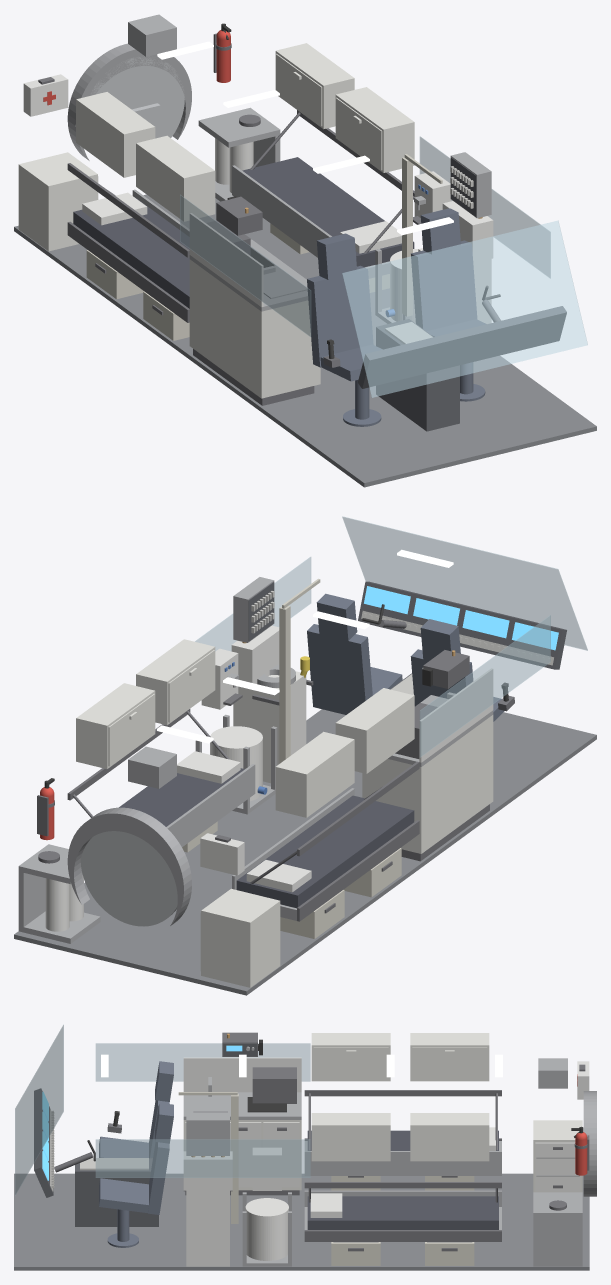
The model's file is rover03_pressurised_rover_steer_left_cutaway.glb.
3 renders of one model, top to bottom at view 1: azimuth 30°, elevation 25°; view 2: azimuth 150°, elevation 25°; view 3: azimuth 270°, elevation 25°, orthographic. The views are drawn at different scales.
Visible parts, largest first — view 1: window_glass_inner, deck_floor, stowage_lockers, eq37_1_cabinet, seat_2, seat_1, dash_panel, eq21_1_body, eq43_1_mattress, eq43_2_mattress, centre_console, hatch_door_1 (+29 smaller); view 2: deck_floor, window_glass_inner, stowage_lockers, eq37_1_cabinet, eq43_2_mattress, hatch_door_1, eq21_1_body, seat_1, hatch_tunnel_1, dash_panel, eq08_1_frame, eq22_1_body (+29 smaller); view 3: deck_floor, window_glass_inner, stowage_lockers, eq43_1_mattress, seat_1, eq43_1_hinge_and_strap_rails, eq08_1_frame, eq22_1_body, eq37_1_splashback, eq37_1_doors, centre_console, eq11_1_tank (+34 smaller).
Boxes of the visible parts, x1,y1,x2,y2 form: window_glass_inner: (180,136,587,397); deck_floor: (14,194,596,487); stowage_lockers: (76,43,414,221); eq37_1_cabinet: (189,259,320,398); seat_2: (307,233,382,426); seat_1: (411,208,486,401); dash_panel: (358,306,566,388); eq21_1_body: (18,152,97,251); eq43_1_mattress: (242,157,414,267); eq43_2_mattress: (73,197,189,308); centre_console: (376,319,459,431); hatch_door_1: (90,56,184,138); deck_floor: (14,709,596,995); window_glass_inner: (195,516,587,757); stowage_lockers: (76,639,414,817); eq37_1_cabinet: (362,715,493,853); eq43_2_mattress: (236,795,414,908); hatch_door_1: (80,831,177,926); eq21_1_body: (201,888,280,987); seat_1: (307,593,402,714); hatch_tunnel_1: (67,807,191,925); dash_panel: (358,581,566,669); eq08_1_frame: (18,844,100,943); eq22_1_body: (233,671,306,783); deck_floor: (14,1173,589,1270); window_glass_inner: (15,1024,310,1195); stowage_lockers: (311,1033,489,1161); eq43_1_mattress: (307,1196,498,1229); seat_1: (99,1103,173,1247); eq43_1_hinge_and_strap_rails: (304,1182,501,1241); eq08_1_frame: (533,1192,582,1266); eq22_1_body: (186,1190,229,1266); eq37_1_splashback: (183,1057,301,1092); eq37_1_doors: (185,1122,299,1187); centre_console: (75,1158,158,1226); eq11_1_tank: (245,1198,288,1260).
Size of the model in its own units: 2.31 by 1.79 by 5.91.
